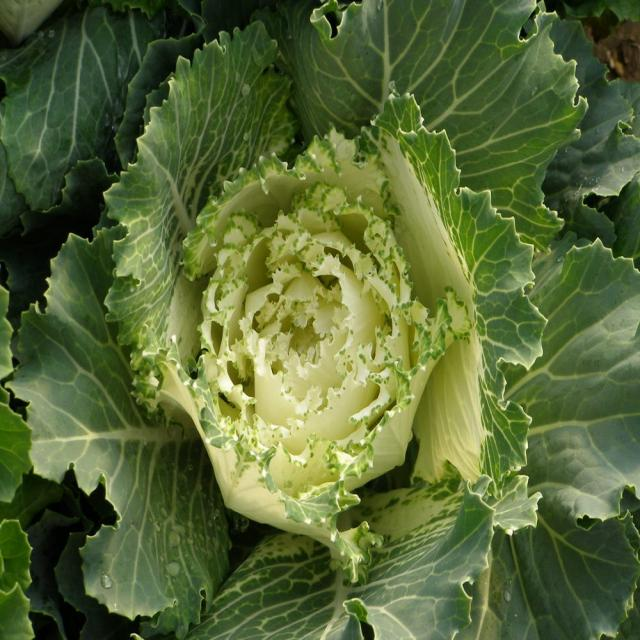Cabbage: (5, 0, 617, 640), (177, 154, 456, 541)
